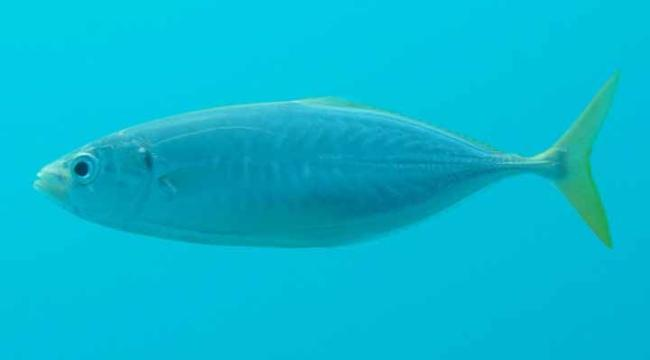fish: (31, 73, 616, 253)
